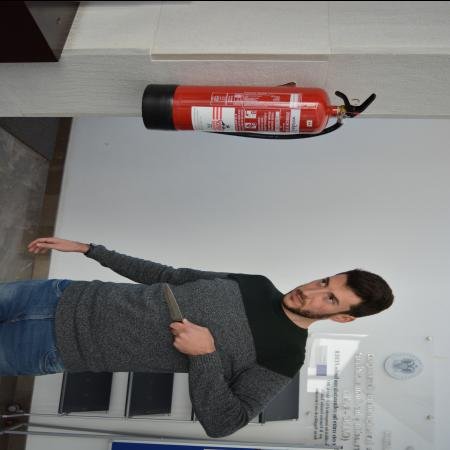long weapon: (160, 280, 193, 330)
